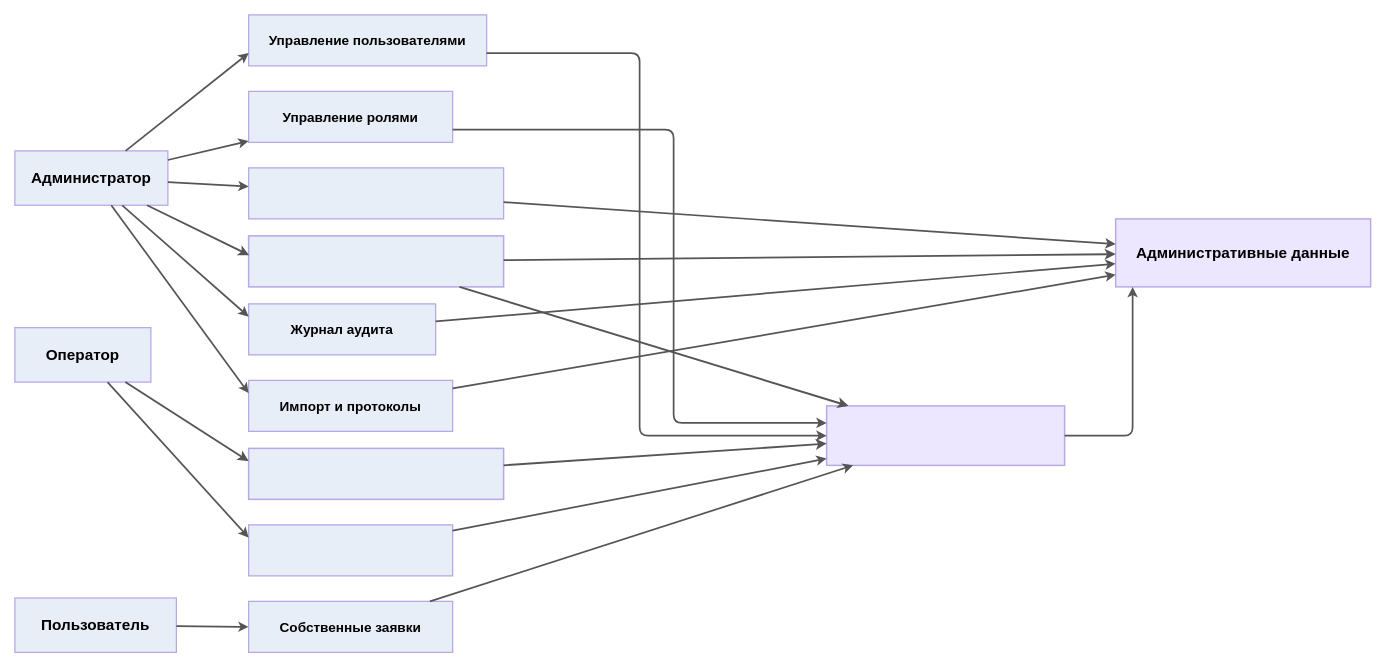
This 1386x668 diagram has some shape labels left out. The shapes that lost their labels are listed below. From the top down, each one's box as (x1, y1, x2, y2) in pixels, then its label:
(248, 167, 504, 219): Управление справочниками
(247, 235, 504, 287): Настройки инвентаризации
(826, 405, 1065, 466): RBAC и проверки прав
(247, 447, 504, 500): Проведение инвентаризации
(248, 524, 453, 576): Операции по заявкам
